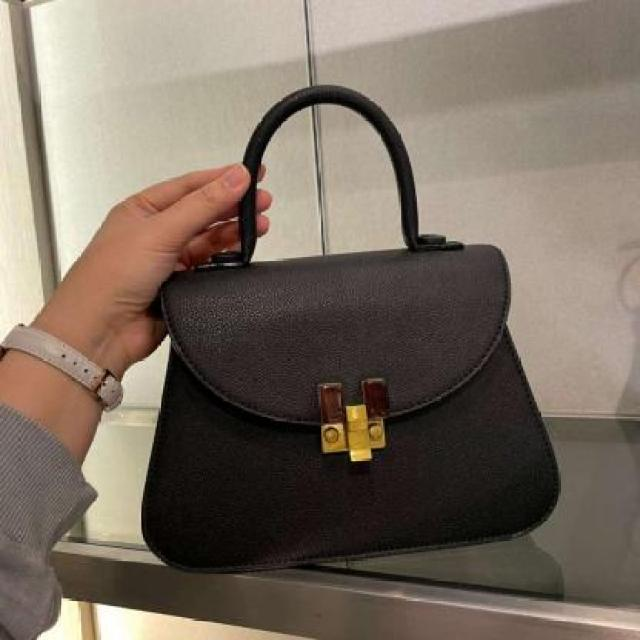Bag: (91, 41, 640, 582)
